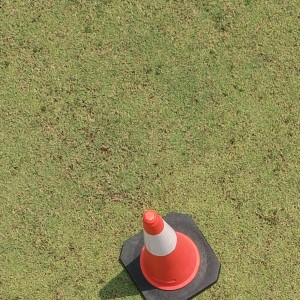traffic cone: (119, 210, 222, 300)
